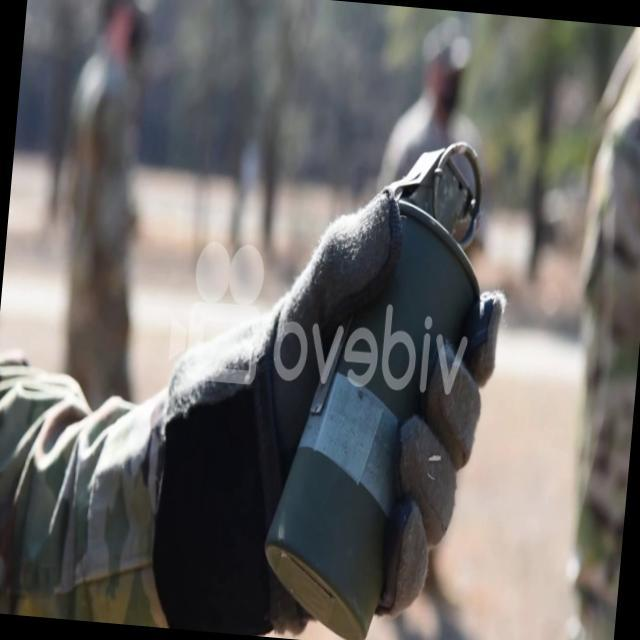grenade: (258, 123, 503, 640)
